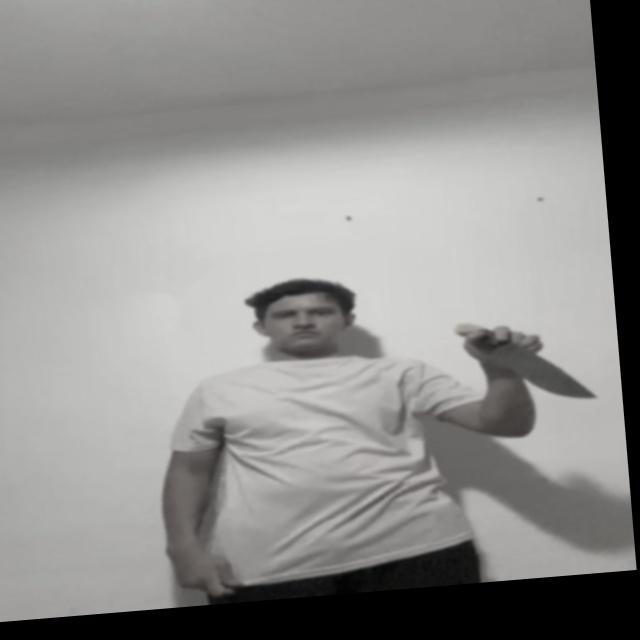Sharp-Object: (496, 337, 591, 405)
